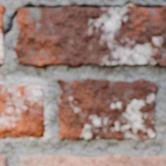brick: (16, 5, 165, 66), (57, 79, 157, 139), (20, 155, 165, 165), (0, 5, 4, 63), (0, 156, 6, 165)
broken_brick: (0, 81, 45, 138)
crack: (2, 0, 163, 42), (5, 103, 44, 116)
